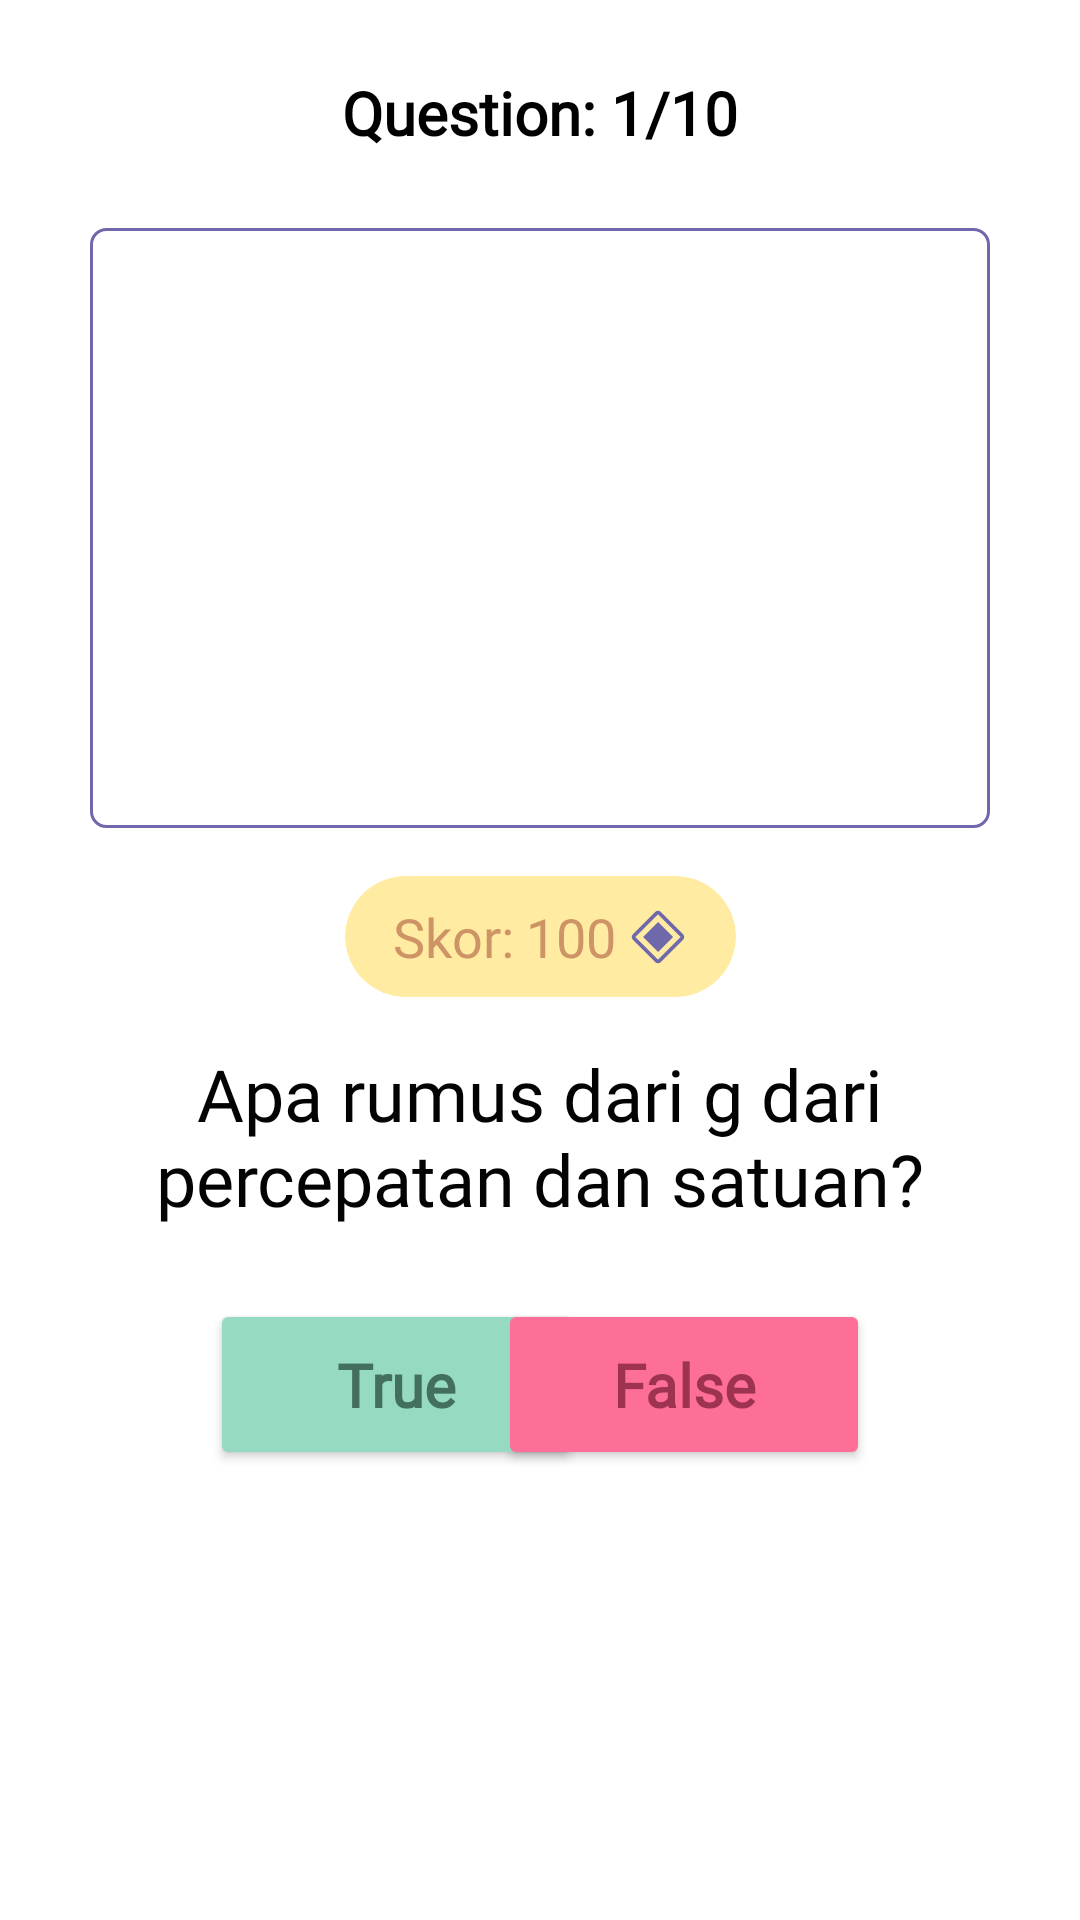

Locate icon controls on the screen. Image size 1080x1920, boxes as (x1, y1, x2, y2).
carbon condition point: (631, 910, 684, 964)
